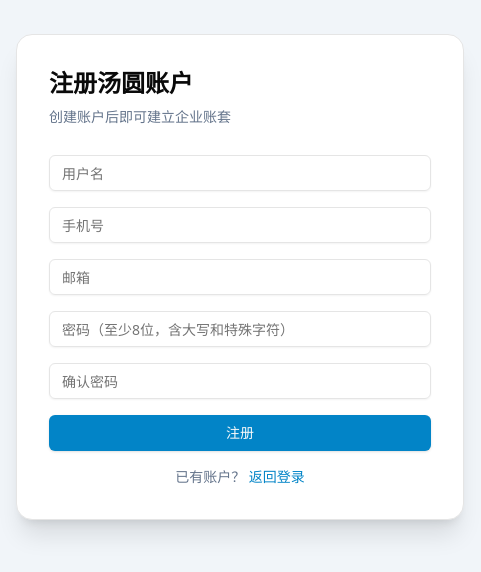
Test case: Register Page › shows backend errors
In the field with placeholder "用户名": coordinates (240, 173) [49,155,431,191], type "alice"
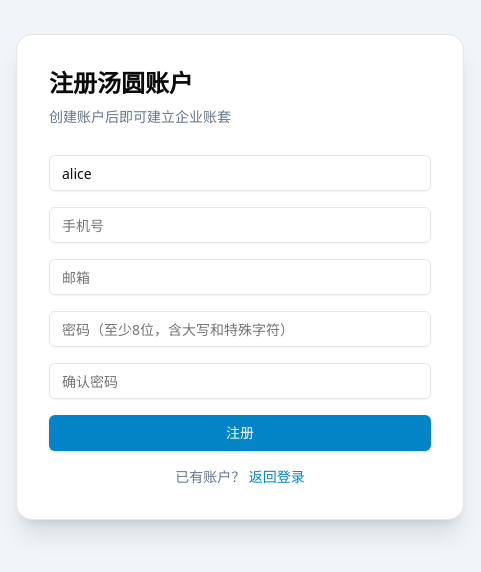
In the field with placeholder "手机号": coordinates (240, 225) [49,207,431,243], type "13800000000"
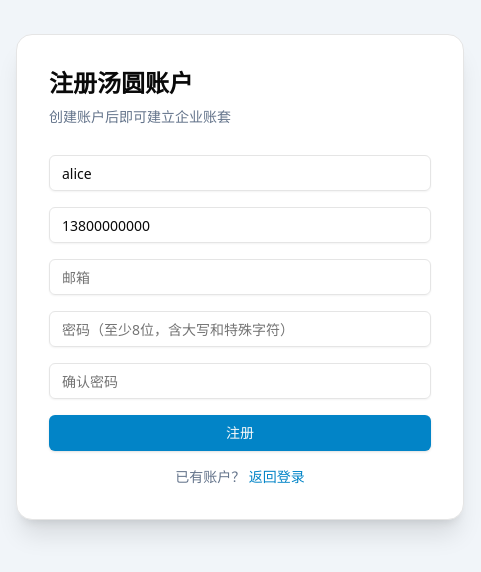
In the field with placeholder "邮箱": coordinates (240, 277) [49,259,431,295], type "a@example.com"
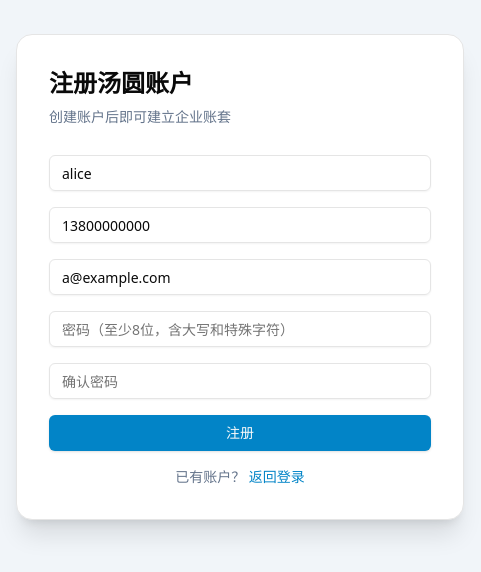
In the password field with placeholder "密码（至少8位，含大写和特殊字符）": coordinates (240, 329) [49,311,431,347], type "Password1!"
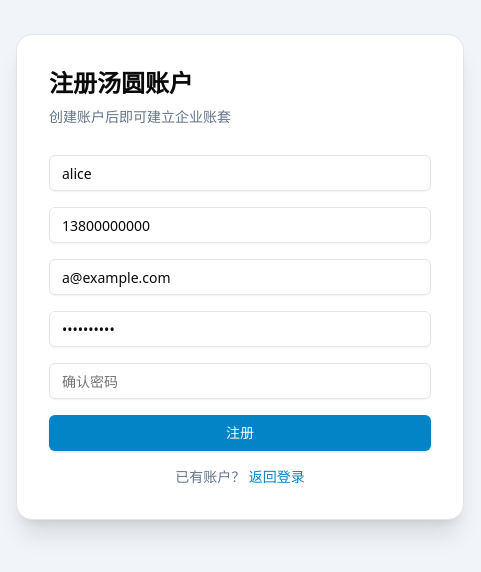
In the password field with placeholder "确认密码": coordinates (240, 381) [49,363,431,399], type "Password1!"
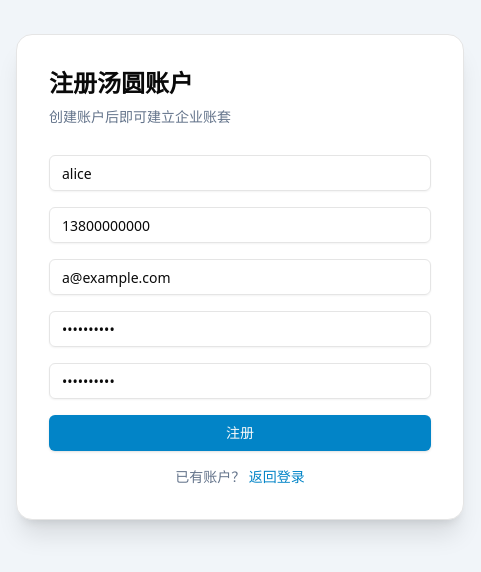
Click the button "注册": coordinates (240, 433) [49,415,431,451]
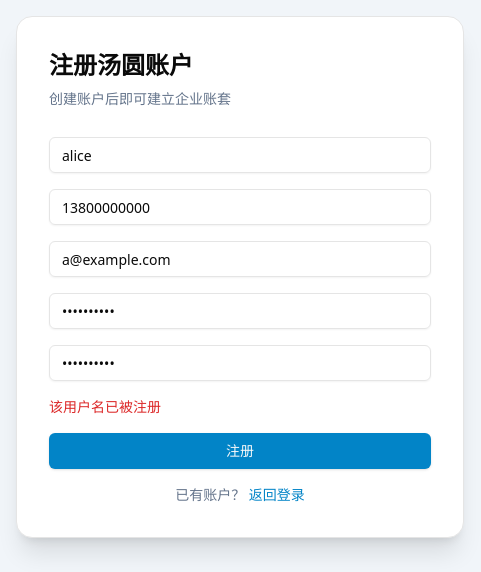
Result: the text "该用户名已被注册" is shown at [49,397,161,416]
